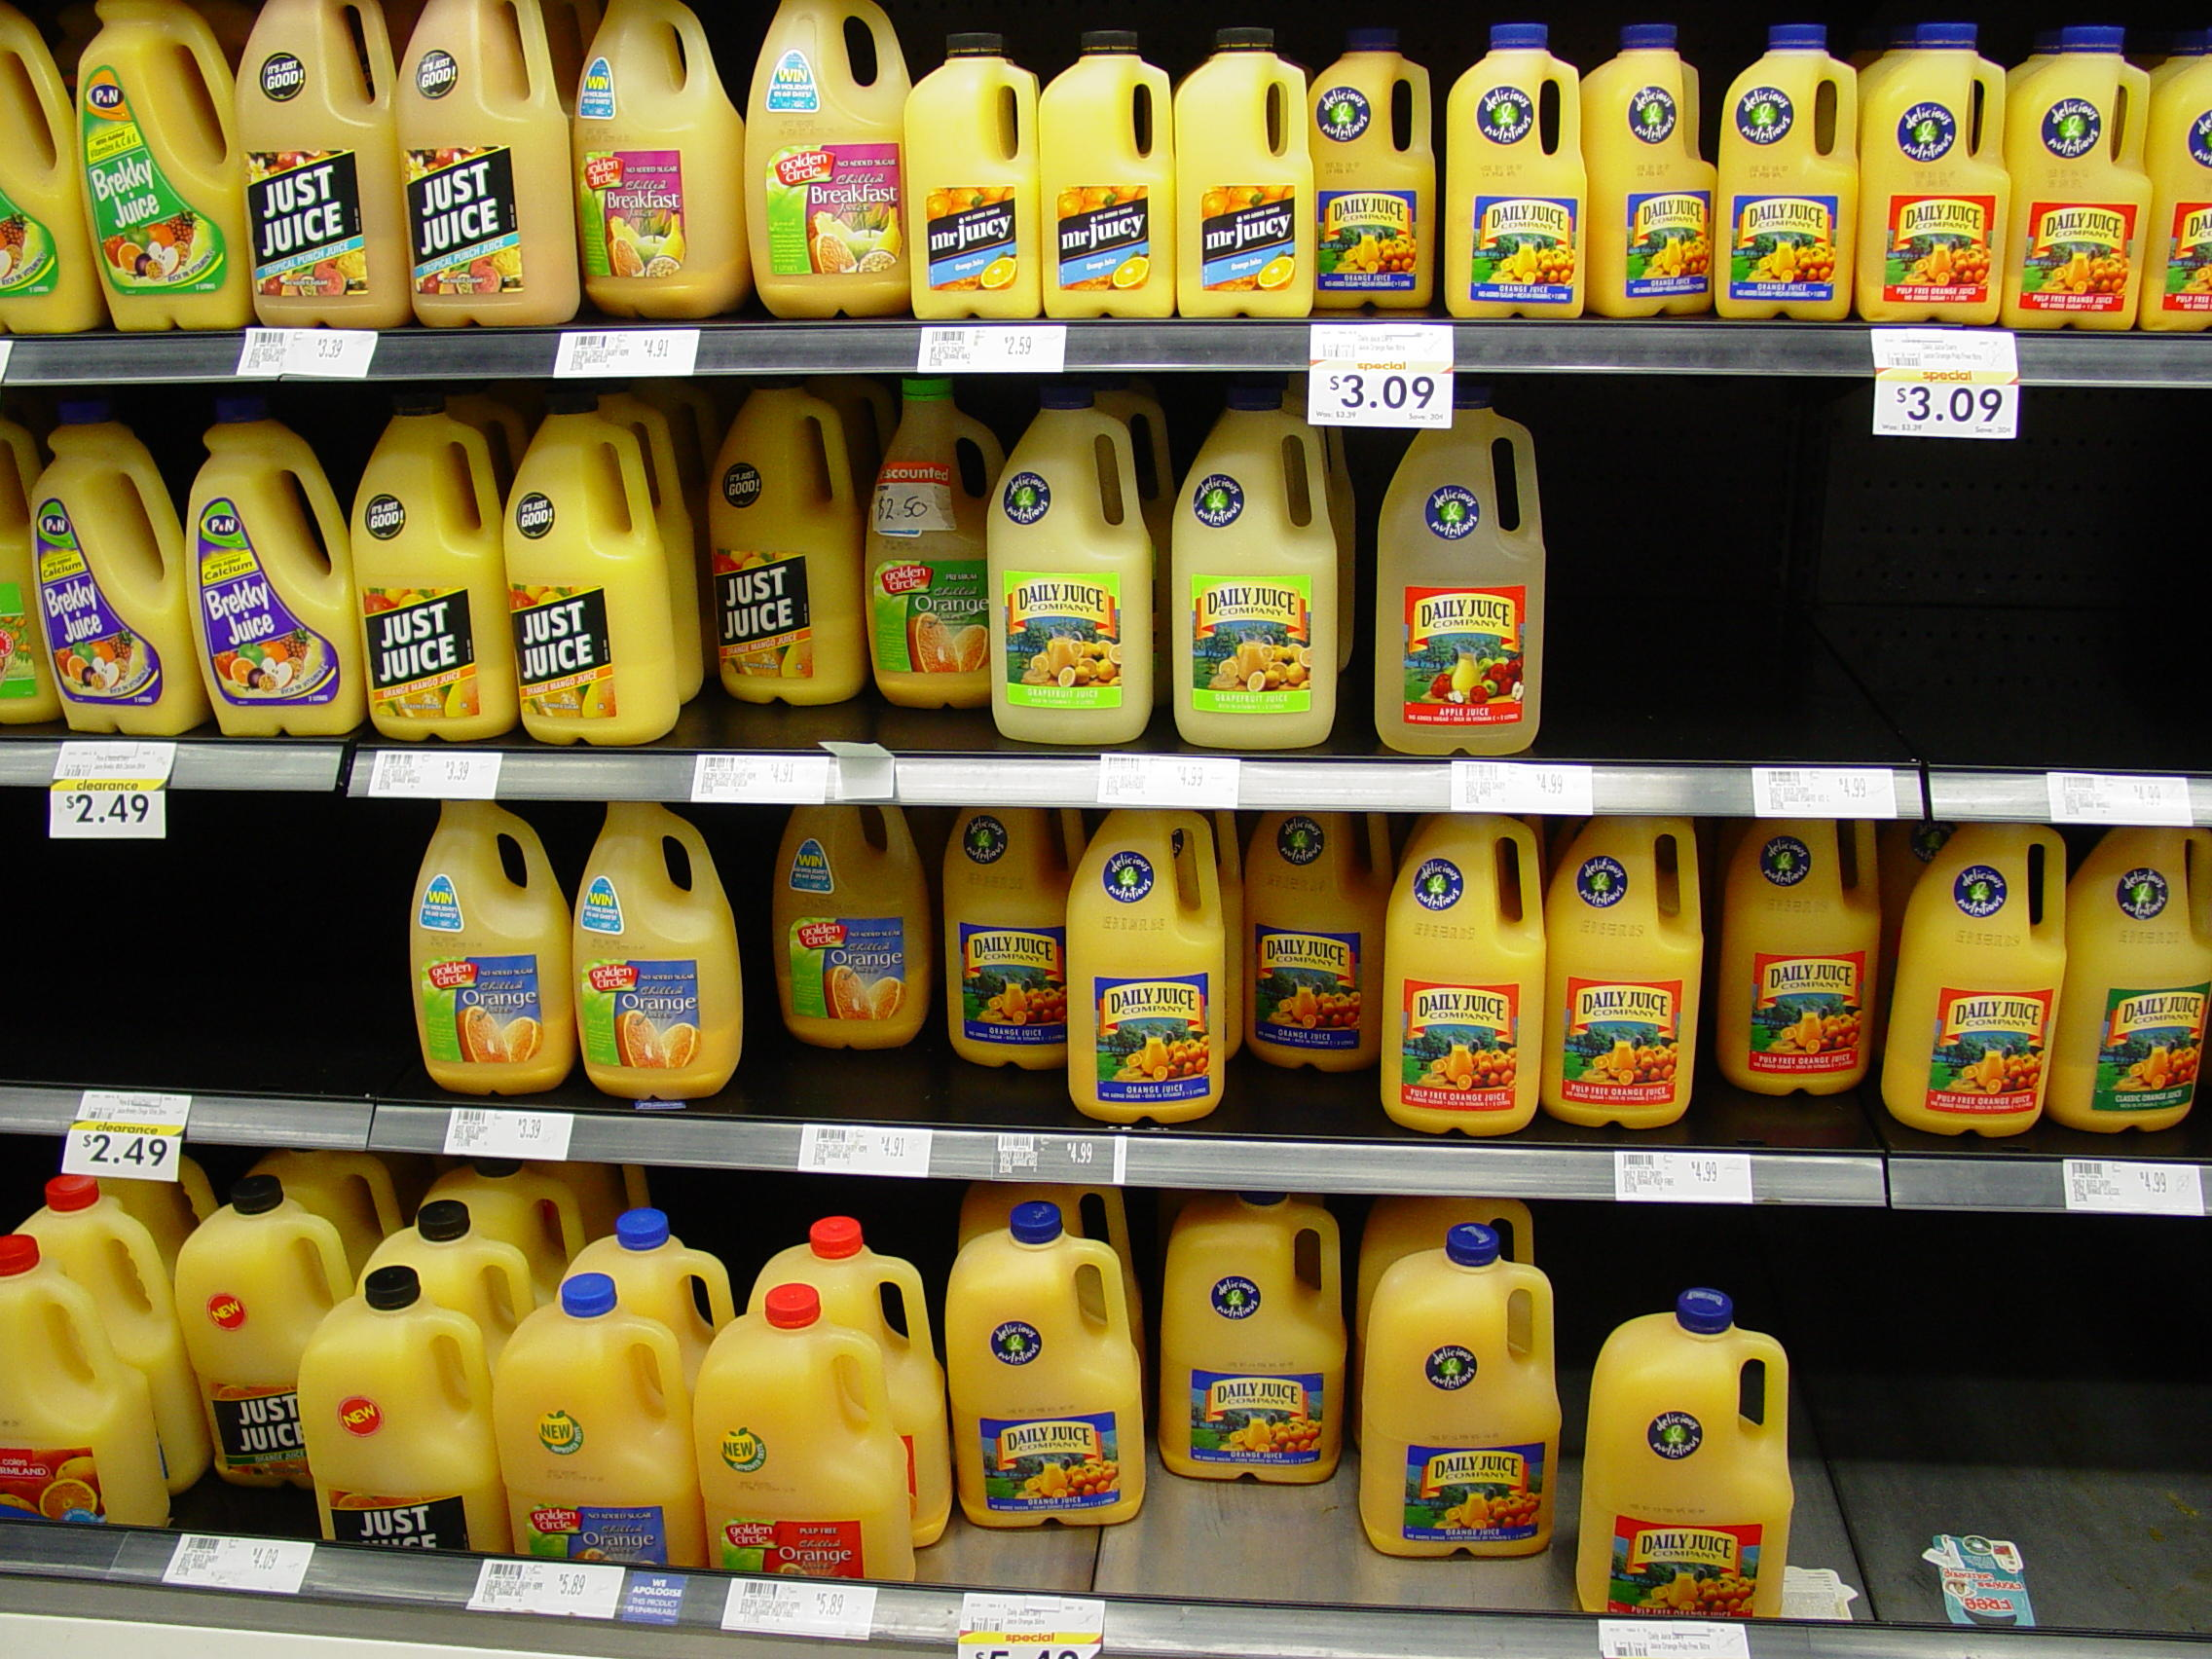Out-of-stock: (1547, 390, 2172, 755), (1773, 1218, 2193, 1636), (21, 791, 404, 1105)
